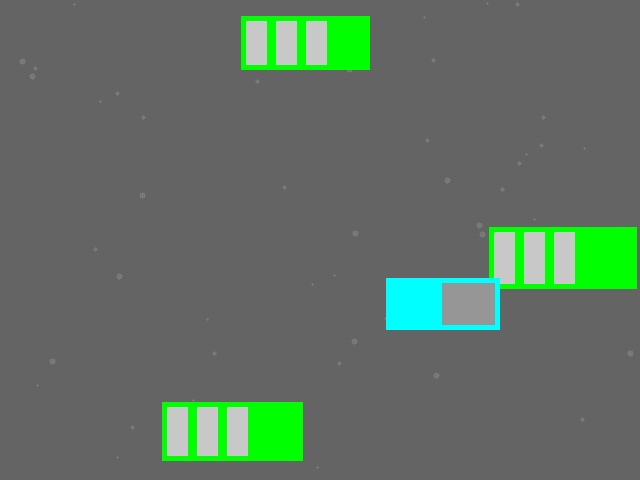bus: (489, 227, 636, 288), (162, 402, 302, 460), (241, 16, 369, 69)
truck: (386, 278, 499, 329)
